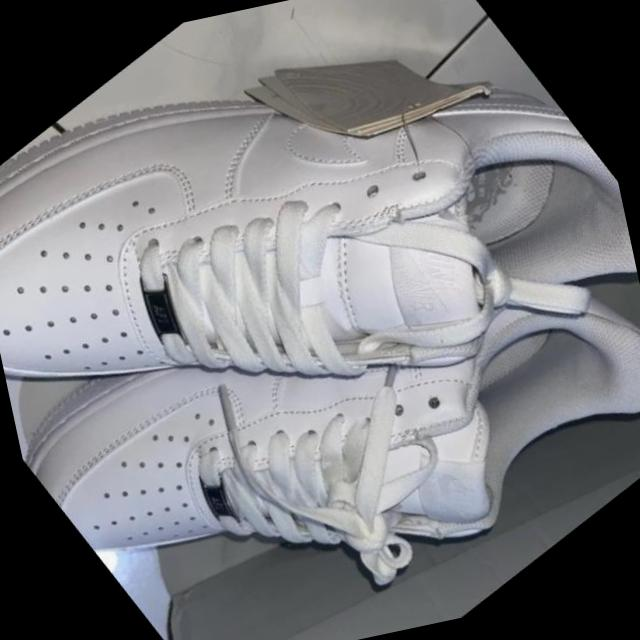nike_original_airforce: (0, 0, 640, 640), (0, 59, 640, 640)
